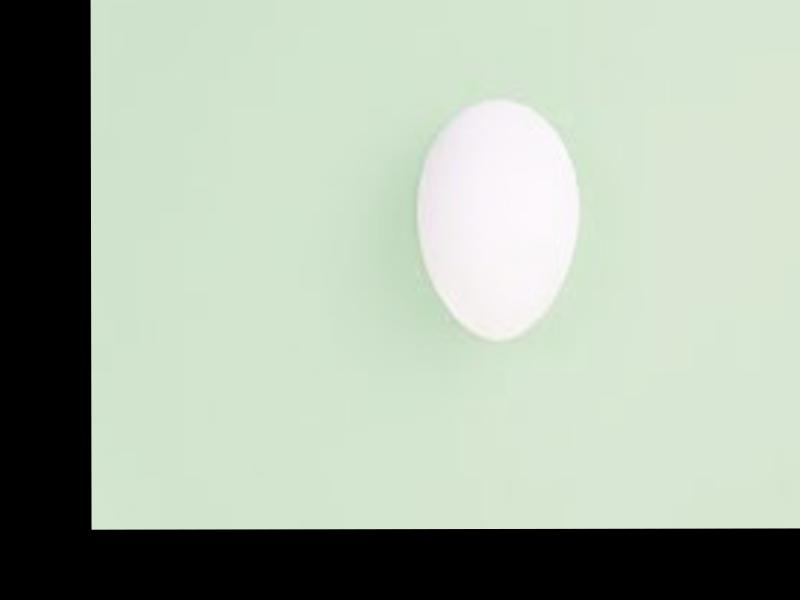Eggs: (414, 96, 579, 340)
